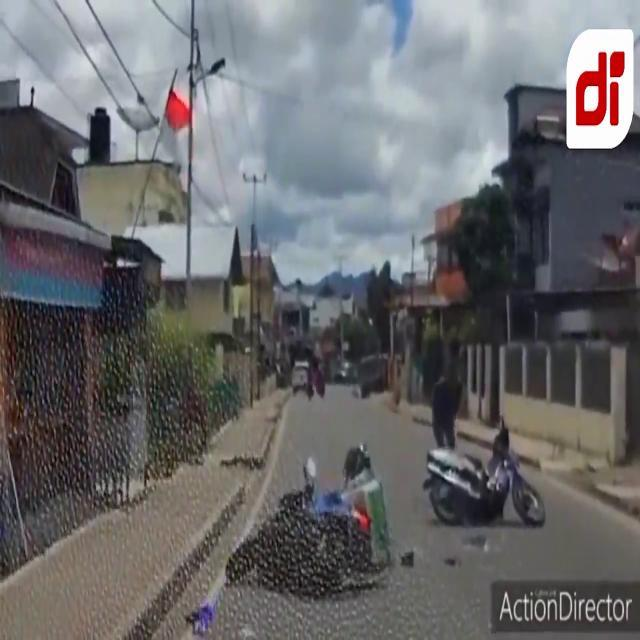multiple_accident: (173, 378, 552, 593)
